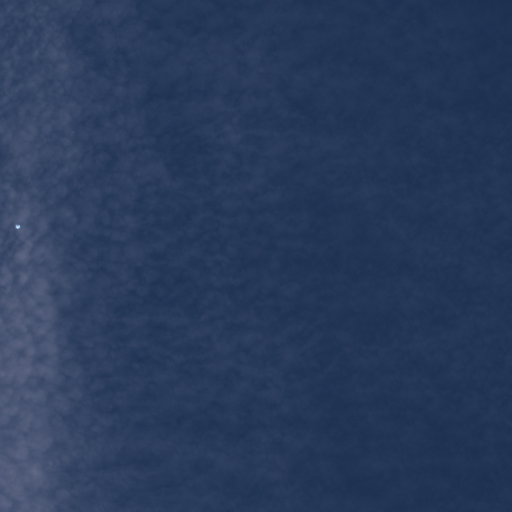Iceberg: (16, 225, 20, 228)
